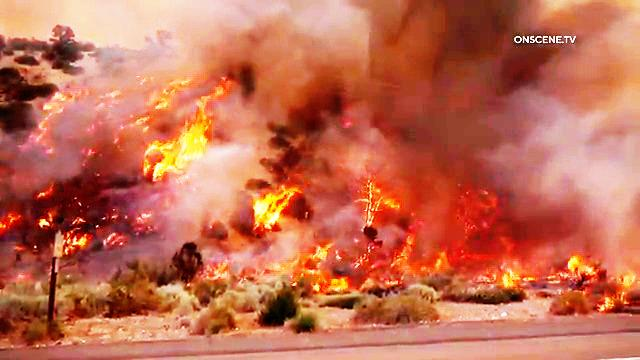fire: (92, 53, 242, 142), (146, 76, 215, 179), (15, 72, 88, 156), (248, 230, 357, 286), (394, 226, 480, 289), (257, 180, 303, 236), (353, 181, 402, 215), (493, 254, 545, 284), (568, 253, 602, 285)
smoke: (308, 6, 490, 84), (477, 55, 636, 141), (340, 97, 459, 172), (554, 157, 639, 216)
